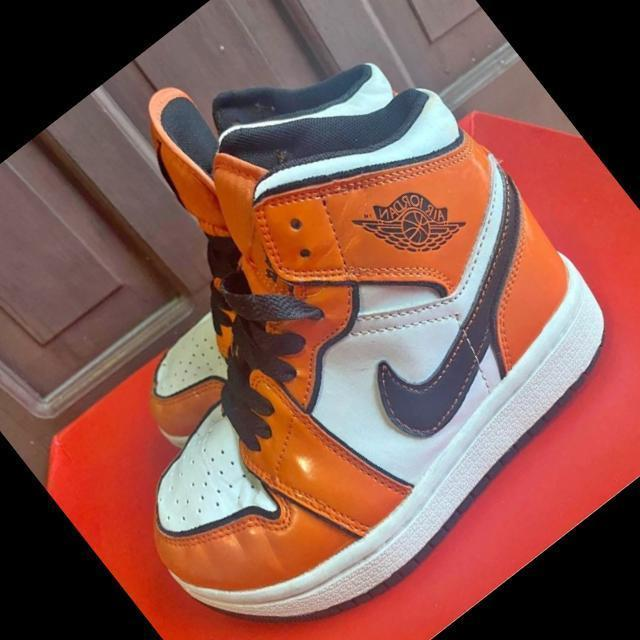nike fake jordan 1: (0, 7, 640, 640), (0, 0, 495, 455)
